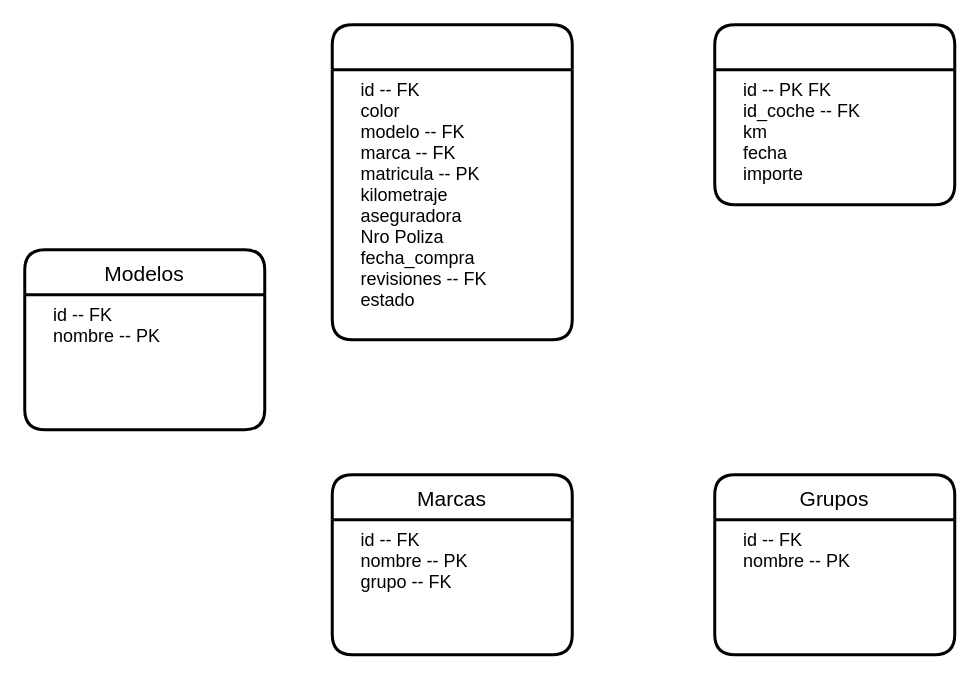
The diagram is 980 pixels wide and 680 high, and some of its shapes have lost their labels. The box of each missing label's shape, as (x1, y1, x2, y2) in pixels:
Coches: (330, 22, 573, 340)
Revisiones: (712, 22, 956, 206)
